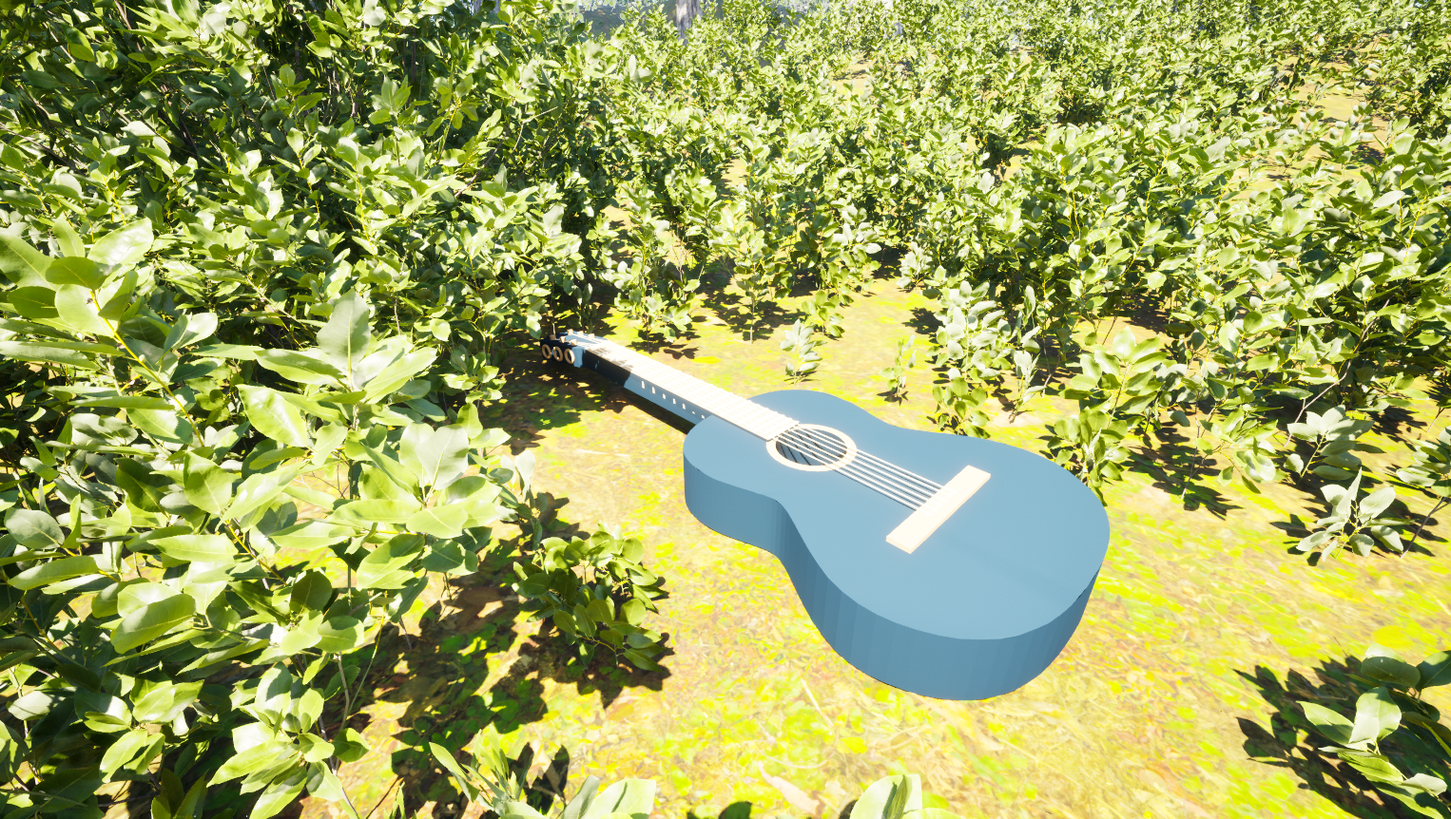Guitar: (452, 301, 1148, 765)
